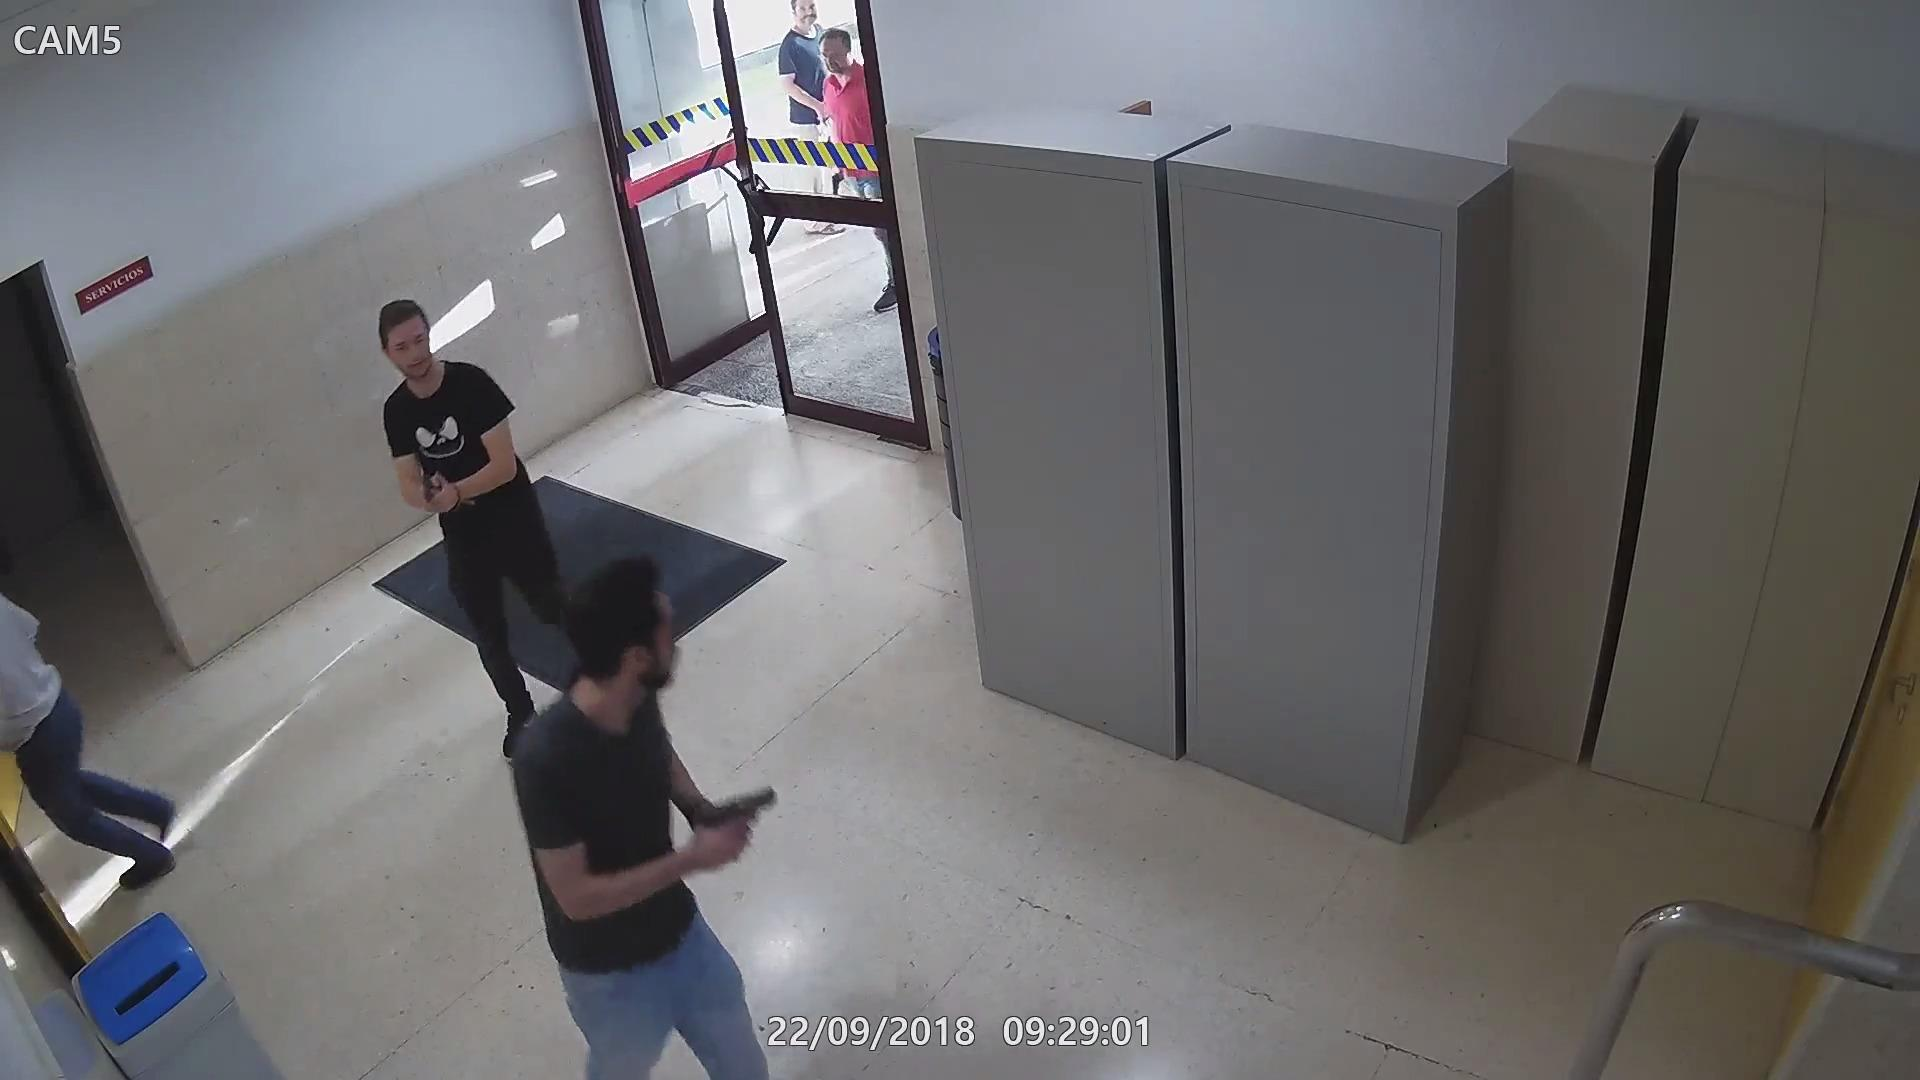Handgun: (682, 786, 783, 877), (413, 469, 459, 513), (827, 165, 848, 199)
